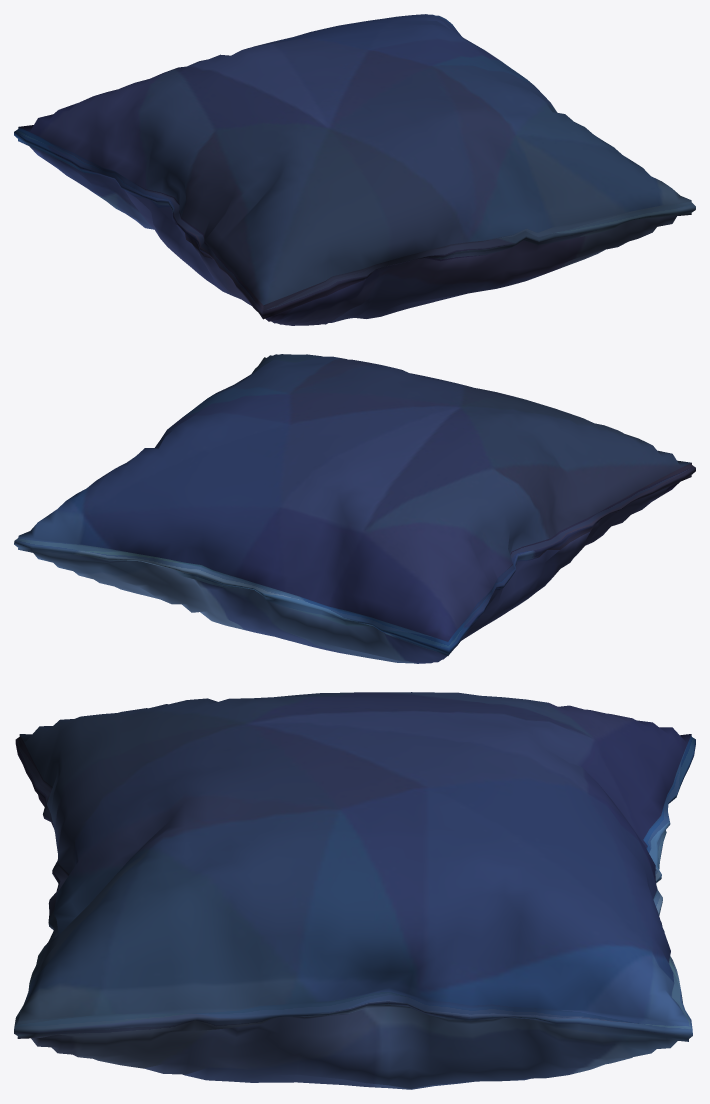
The picture shows the model from 3 angles, top to bottom: view 1: azimuth 30°, elevation 25°; view 2: azimuth 150°, elevation 25°; view 3: azimuth 270°, elevation 25°; orthographic projection. The views are drawn at different scales.
Visible parts, largest first — view 1: Cube; view 2: Cube; view 3: Cube.
Part boxes in pixels (x1,y1,x2,y2): Cube: [14, 14, 695, 325]; Cube: [14, 354, 695, 663]; Cube: [14, 692, 695, 1089].
Size of the model in its own units: 1.95 by 0.8063 by 1.92.
Materials: 1 (1 with a texture image).
